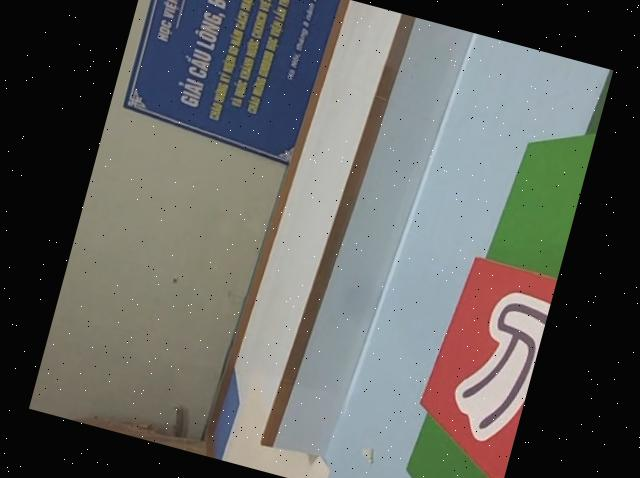R2 Fake: (393, 248, 557, 478)
